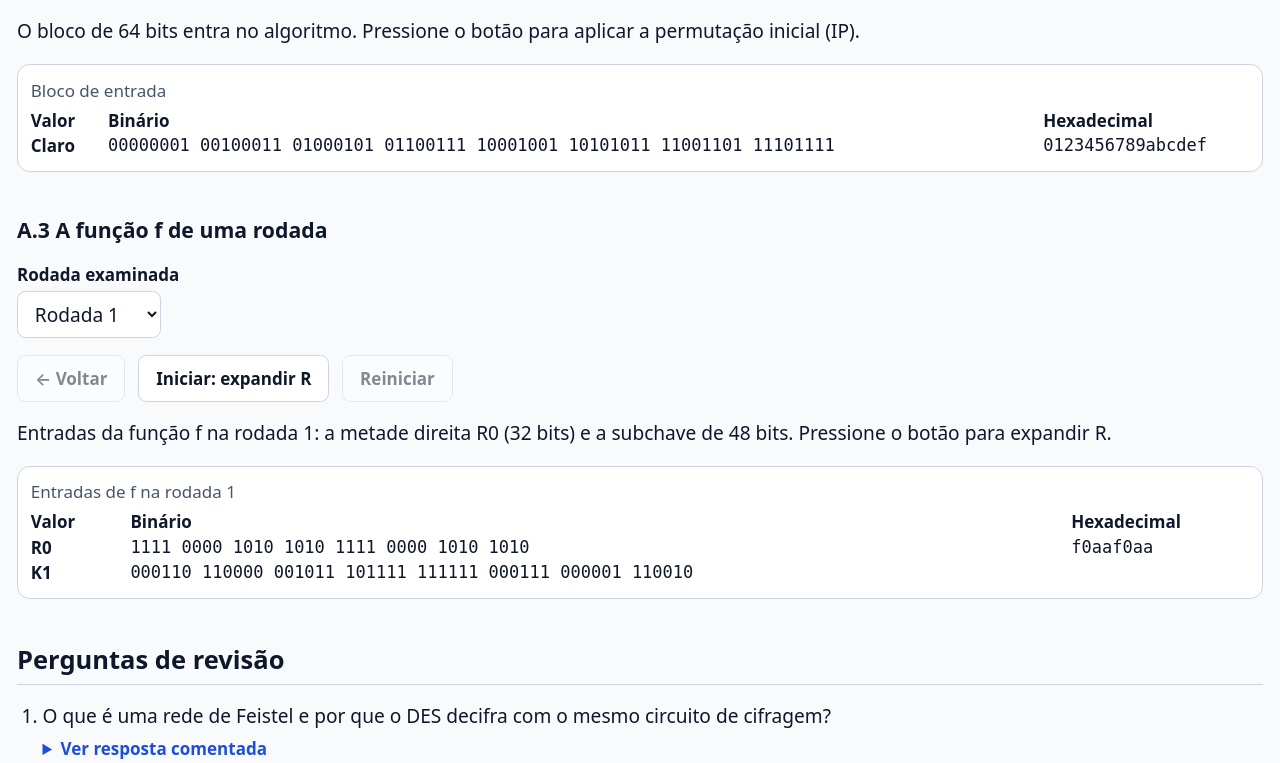
it: laboratório de DES e Triple DES › A.3: a função f mostra uma caixa S por vez
(page scrolled)
Step 1. Click the button "Iniciar: expandir R" → (234, 379), box [138,355,329,402]
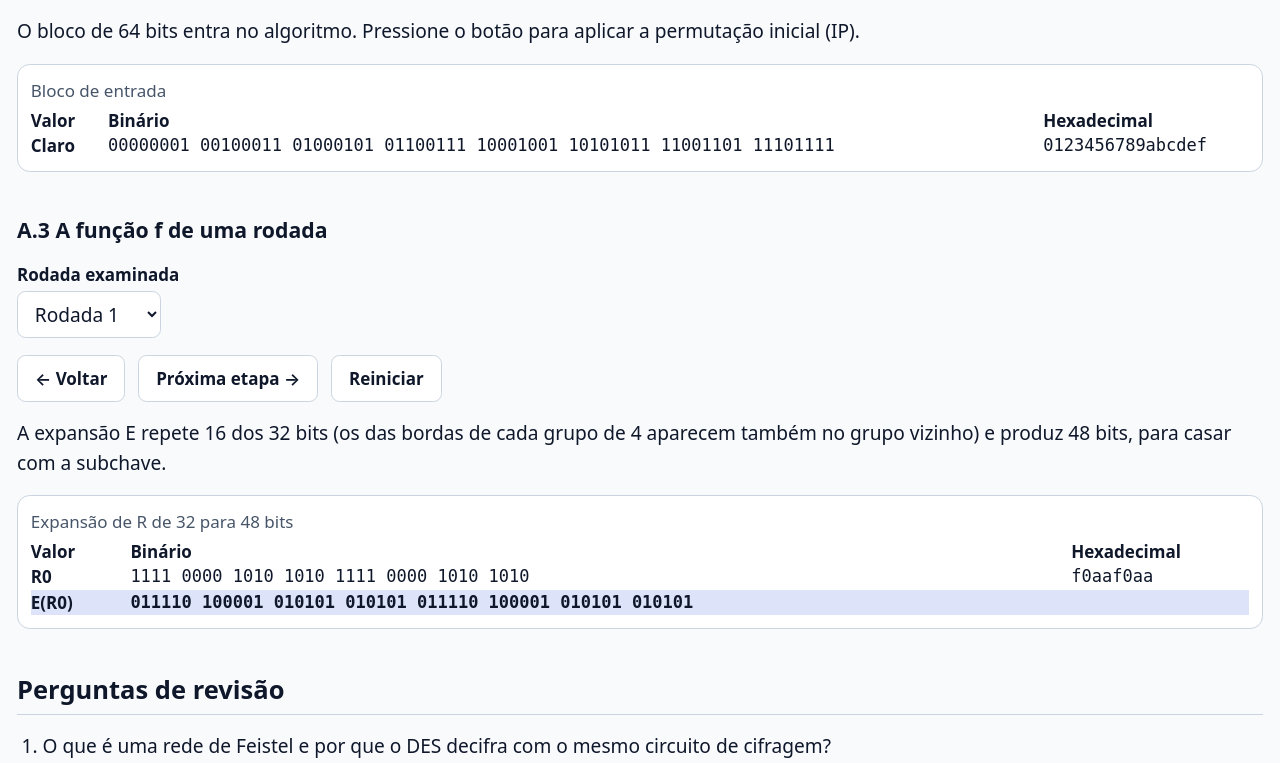
Step 2. Click the button "Próxima etapa →" → (228, 379), box [138,355,318,402]
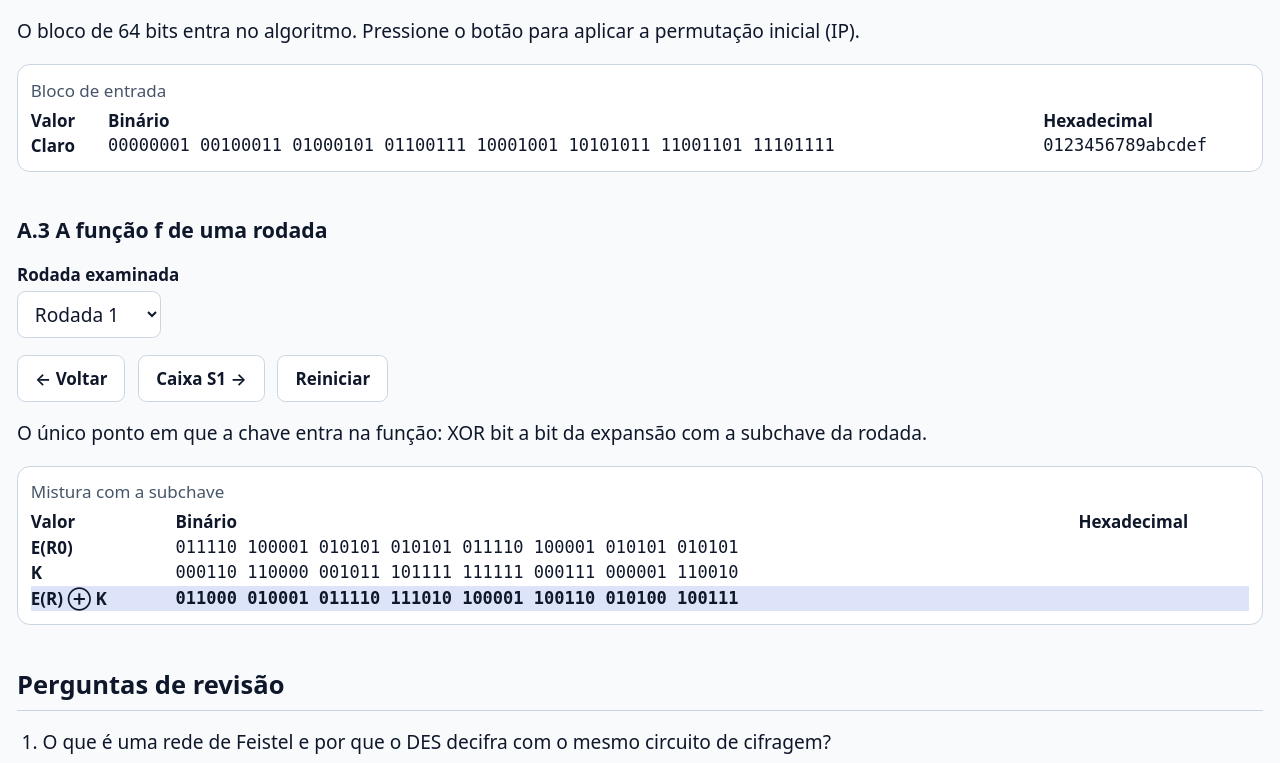
Step 3. Click the button "Caixa S1 →" → (201, 379), box [138,355,265,402]
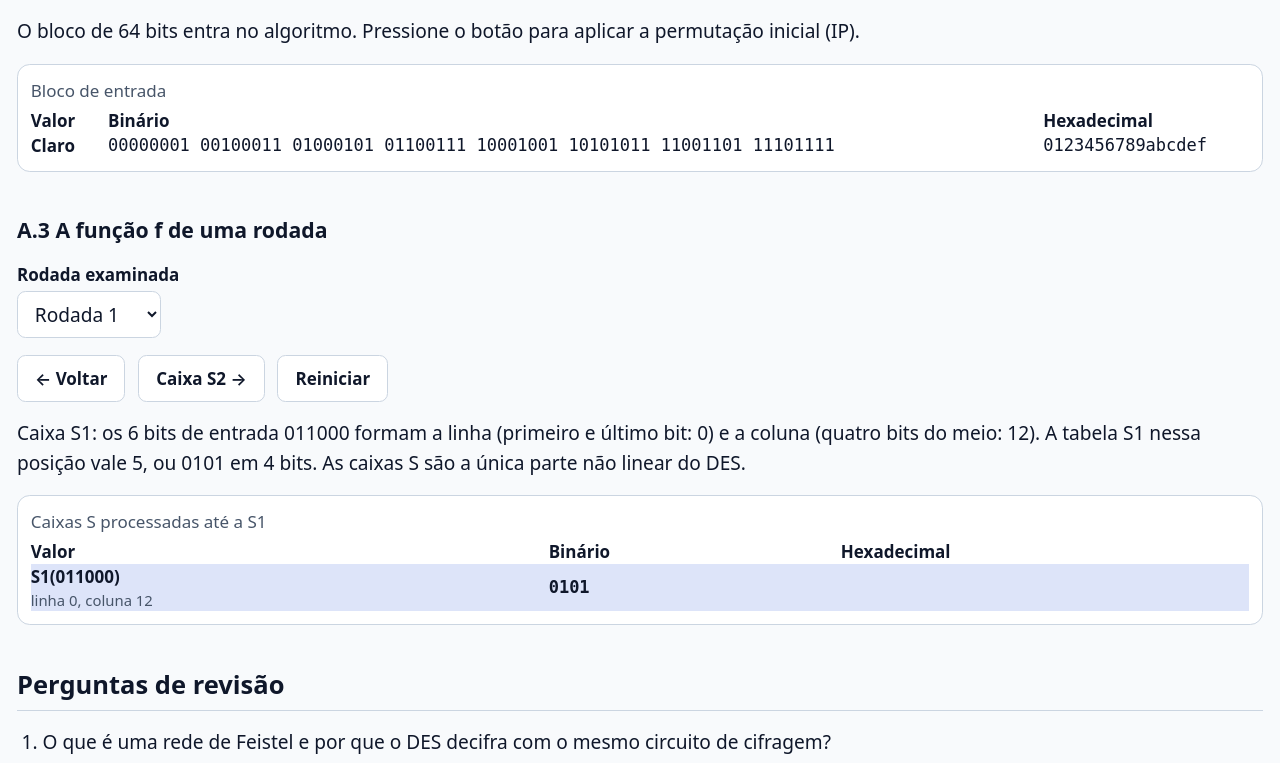
expect the text "vale 5, ou 0101 em 4 bits" is shown: met, box [17,420,1201,476]
